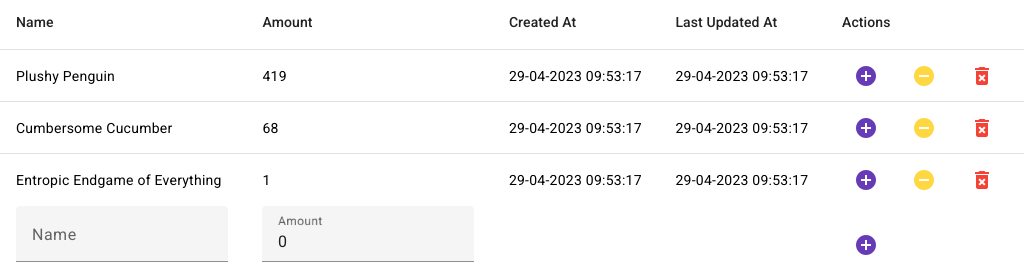
Inventory E2E › GIVEN the inventory is not empty › AND item amount > 1 › WHEN user clicks the increment button THEN the amount should be incremented
Expected: the cell with test id "amount-1" reads "419", [262,68,286,84]
Click the button with test id "increment-btn-1". click: (866, 76)
box: [842,52,890,100]
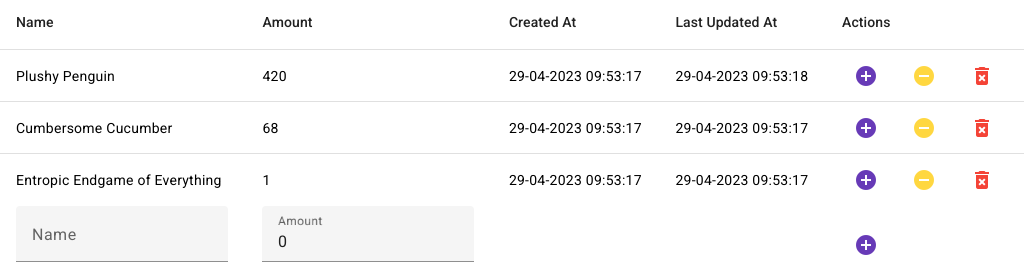
Expected: the cell with test id "amount-1" reads "420", [262,68,286,84]
